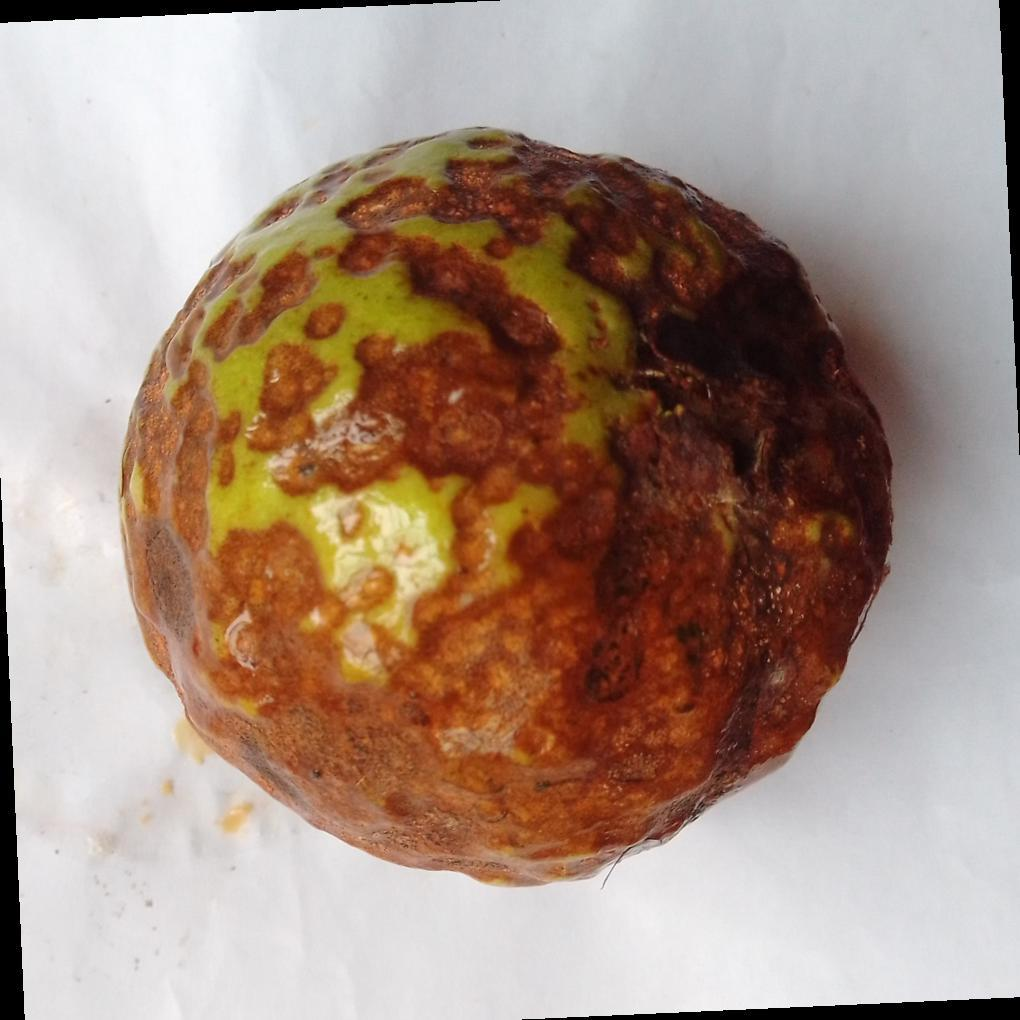FreshOrange: (118, 126, 896, 893)
